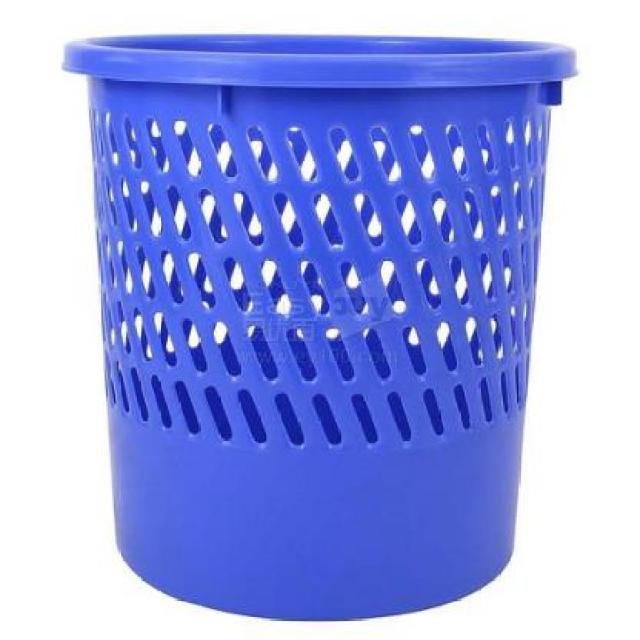dustbin: (57, 28, 584, 629)
